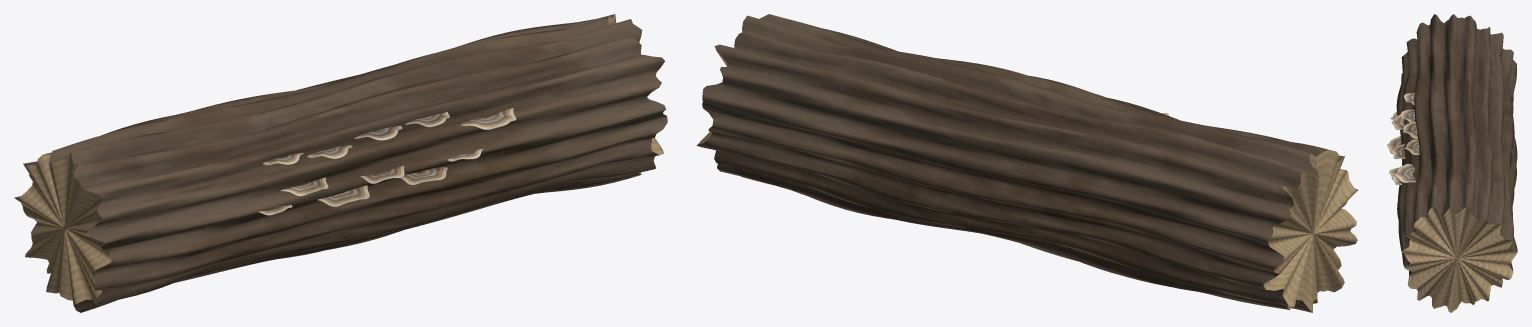
The model's file is turkey_tail_deadwood_hybrid.glb.
The picture shows the model from 3 angles, left to right: view 1: azimuth 30°, elevation 25°; view 2: azimuth 150°, elevation 25°; view 3: azimuth 270°, elevation 25°; orthographic projection. The views are drawn at different scales.
Visible parts, largest first — view 1: DeadwoodBark, BrokenWoodEnd-1, ReferenceCap, FruitingBody02, FruitingBody04, FruitingBody01; view 2: DeadwoodBark, BrokenWoodEnd-1; view 3: DeadwoodBark, BrokenWoodEnd1, ReferenceCap, FruitingBody09, FruitingBody08, FruitingBody03, FruitingBody07, FruitingBody01, FruitingBody02, FruitingBody06.
Boxes of the visible parts, x1,y1,x2,y2 form: DeadwoodBark: (16,14,667,312); BrokenWoodEnd-1: (14,152,111,304); ReferenceCap: (460,108,516,129); FruitingBody02: (317,185,369,206); FruitingBody04: (399,167,447,185); FruitingBody01: (280,177,328,196); DeadwoodBark: (696,14,1345,312); BrokenWoodEnd-1: (1263,149,1358,312); DeadwoodBark: (1396,14,1517,297); BrokenWoodEnd1: (1401,206,1517,312); ReferenceCap: (1394,164,1415,182); FruitingBody09: (1404,139,1419,155); FruitingBody08: (1402,122,1417,139); FruitingBody03: (1391,144,1405,159); FruitingBody07: (1401,109,1414,122); FruitingBody01: (1391,114,1404,129); FruitingBody02: (1387,136,1401,153); FruitingBody06: (1404,93,1414,105).
Bounding box in the file's own units: 1.14 × 0.2931 × 0.3163.
